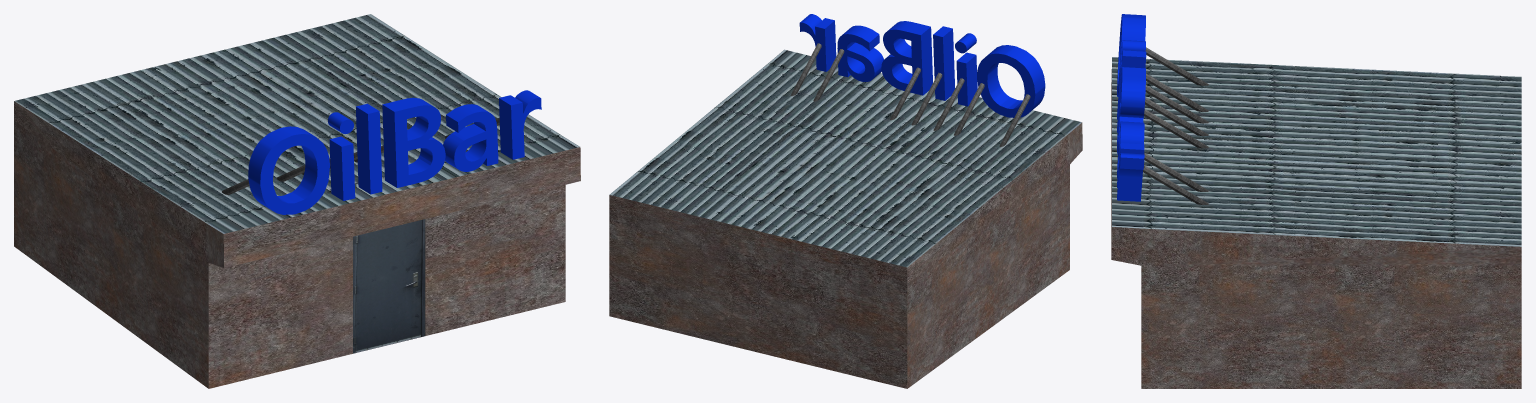
Rendered from Bar.fbx.
3 renders of one model, left to right at view 1: azimuth 30°, elevation 25°; view 2: azimuth 150°, elevation 25°; view 3: azimuth 270°, elevation 25°, orthographic. The views are drawn at different scales.
Parts seen in each view (by area): view 1: polySurface32; view 2: polySurface32; view 3: polySurface32.
Boxes of the visible parts, left/top/right/bottom form: polySurface32: left=14, top=14, right=580, bottom=388; polySurface32: left=609, top=14, right=1082, bottom=388; polySurface32: left=1111, top=14, right=1521, bottom=388.
Size of the model in its own units: 22.34 by 14.69 by 22.77.
Materials: 5 (4 with a texture image).
